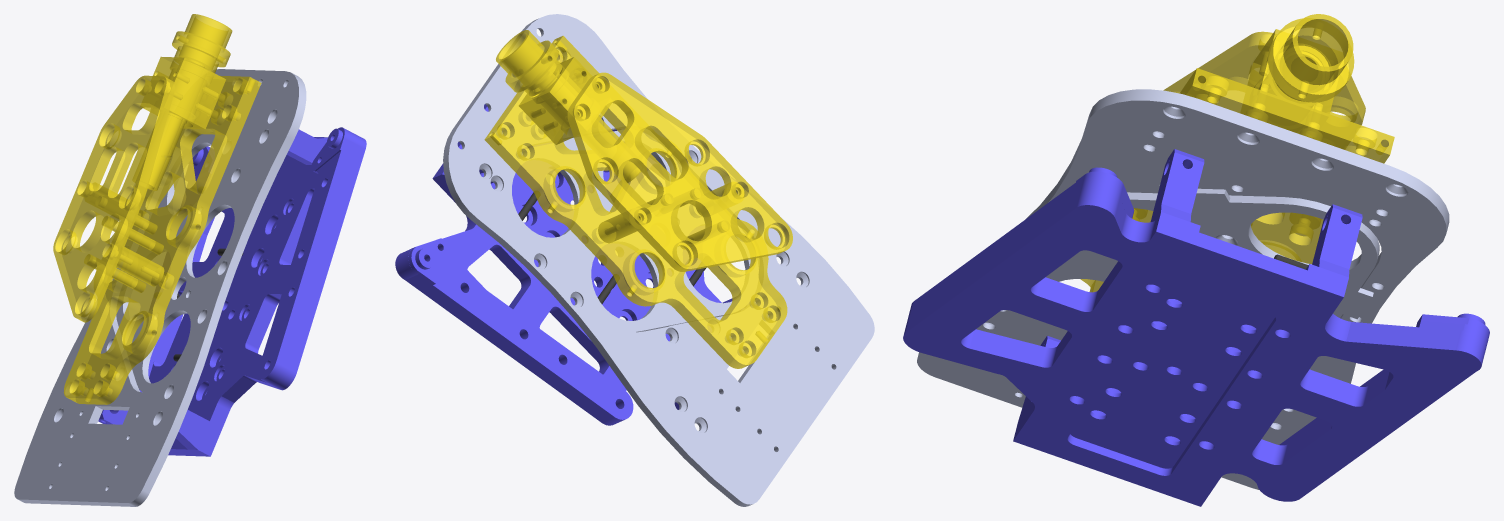
3 renders of one model, left to right at view 1: azimuth 30°, elevation 25°; view 2: azimuth 150°, elevation 25°; view 3: azimuth 270°, elevation 25°, orthographic. The views are drawn at different scales.
Visible parts, largest first — view 1: Actor5, Actor6, Actor13, Actor12, Actor0, Actor10, Actor11, Actor14, Actor8, Actor9; view 2: Actor5, Actor6, Actor13, Actor12, Actor0, Actor10, Actor11, Actor15; view 3: Actor6, Actor5, Actor13, Actor0, Actor10, Actor12, Actor11.
Boxes of the visible parts, x1=… form: Actor5: x1=14, y1=69, x2=306, y2=506; Actor6: x1=98, y1=127, x2=366, y2=456; Actor13: x1=63, y1=75, x2=261, y2=404; Actor12: x1=53, y1=75, x2=175, y2=322; Actor0: x1=116, y1=133, x2=237, y2=392; Actor10: x1=147, y1=14, x2=232, y2=190; Actor11: x1=143, y1=56, x2=225, y2=129; Actor14: x1=116, y1=247, x2=164, y2=286; Actor8: x1=107, y1=218, x2=163, y2=253; Actor9: x1=89, y1=257, x2=145, y2=292; Actor5: x1=443, y1=14, x2=874, y2=506; Actor6: x1=395, y1=57, x2=743, y2=425; Actor13: x1=484, y1=35, x2=787, y2=368; Actor12: x1=567, y1=72, x2=792, y2=271; Actor0: x1=505, y1=130, x2=758, y2=332; Actor10: x1=496, y1=30, x2=640, y2=182; Actor11: x1=518, y1=57, x2=600, y2=144; Actor15: x1=598, y1=208, x2=646, y2=243; Actor6: x1=903, y1=149, x2=1489, y2=506; Actor5: x1=917, y1=89, x2=1449, y2=489; Actor13: x1=1080, y1=68, x2=1394, y2=292; Actor0: x1=1044, y1=188, x2=1379, y2=335; Actor10: x1=1268, y1=14, x2=1354, y2=102; Actor12: x1=1163, y1=31, x2=1365, y2=125; Actor11: x1=1244, y1=29, x2=1333, y2=133.
Size of the model in its own units: 0.0919 by 0.1281 by 0.1108.
